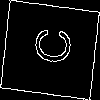C: (25, 24, 73, 66)
